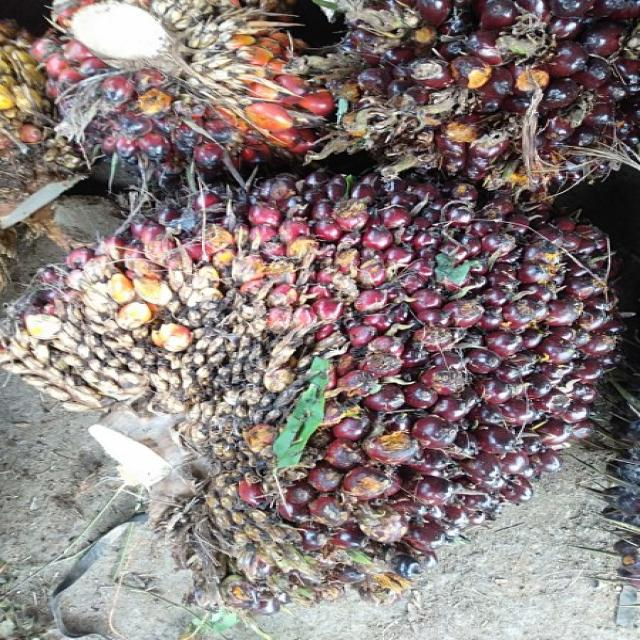fraksi 1: (32, 157, 620, 611)
